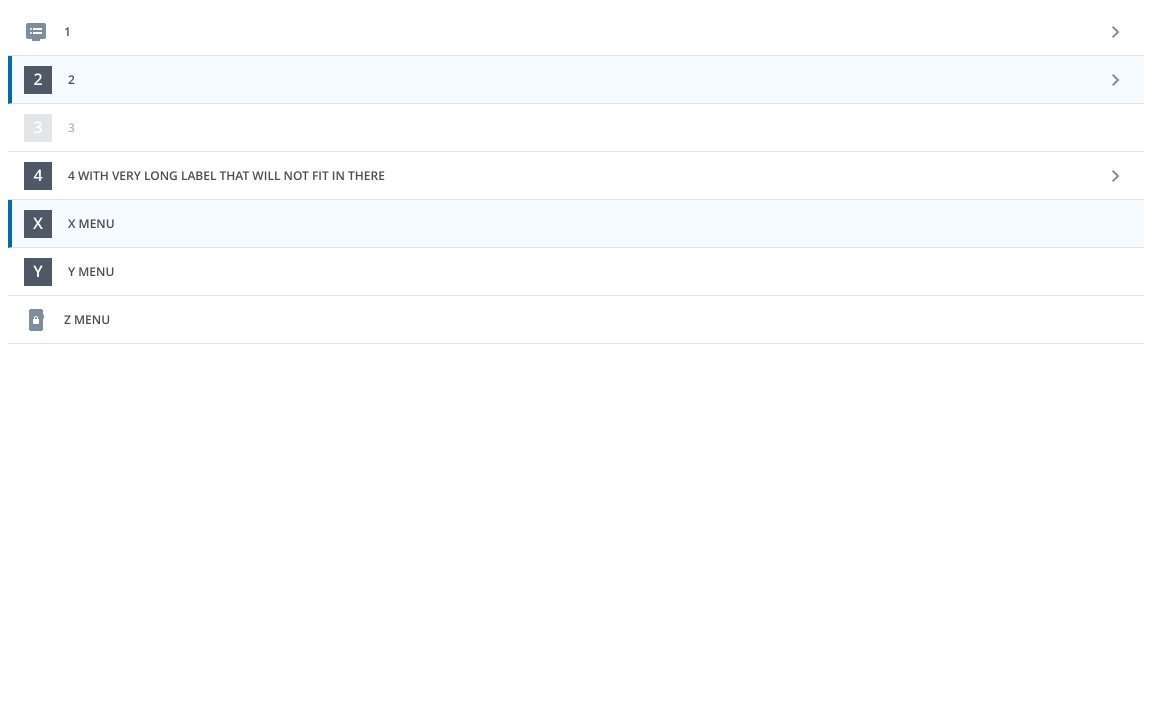
com.mgmtp.a12.widgets.menu.sliding › Interaction Hint › sliding menu should not show hint when componentConfigs.slidingMenu=true"
Focus the list item "1" at point(66, 48), box x1=8 y1=8 x2=1144 y2=56
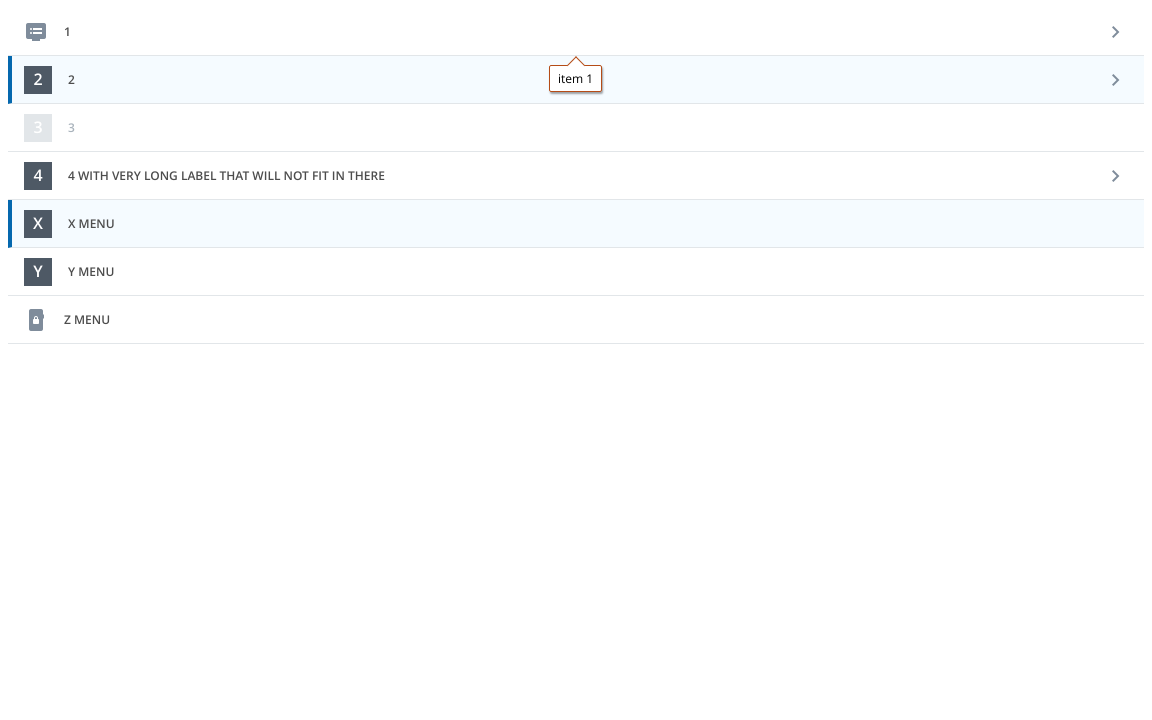
Now the text "item 1" is shown, box x1=549 y1=65 x2=602 y2=92
